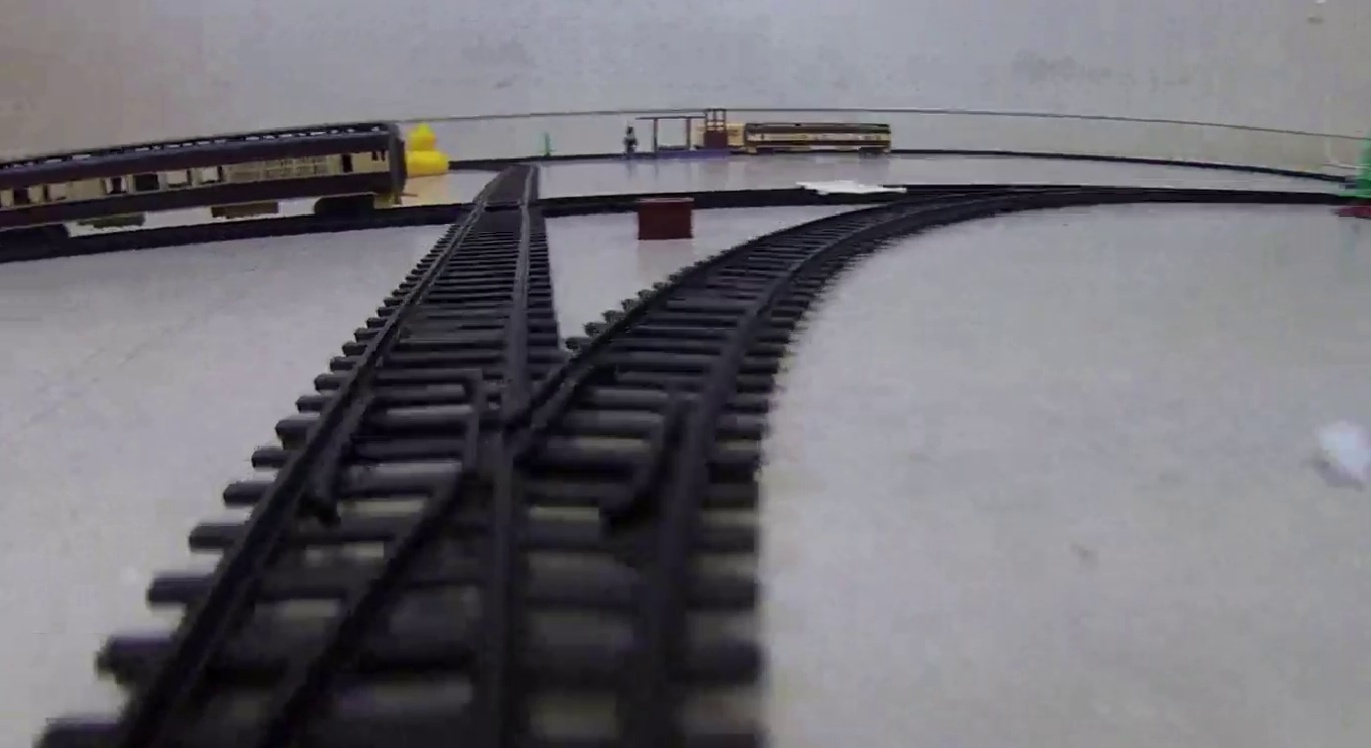box: (633, 196, 694, 241)
web: (797, 176, 908, 200)
